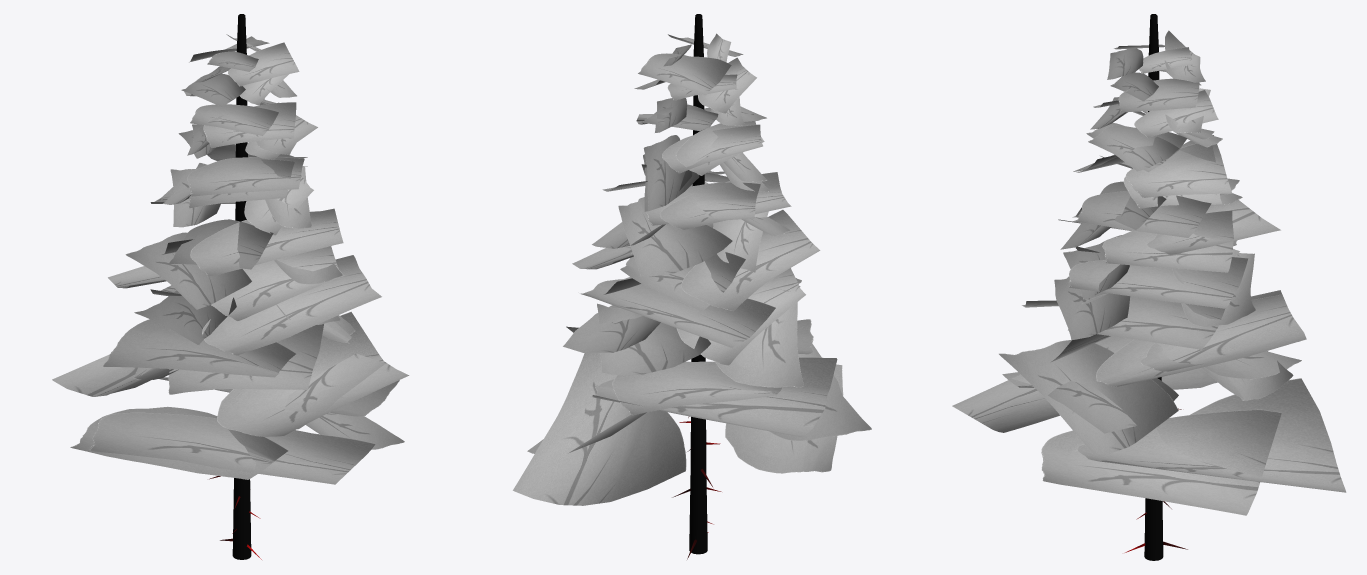
File: M_Pine_5_8.fbx
3 renders of one model, left to right at view 1: azimuth 30°, elevation 25°; view 2: azimuth 150°, elevation 25°; view 3: azimuth 270°, elevation 25°, orthographic.
Visible parts, largest first — view 1: Mobile_Pine_8; view 2: Mobile_Pine_8; view 3: Mobile_Pine_8.
Boxes of the visible parts, left/top/right/bottom form: Mobile_Pine_8: left=52, top=14, right=409, bottom=559; Mobile_Pine_8: left=512, top=14, right=871, bottom=559; Mobile_Pine_8: left=952, top=14, right=1346, bottom=560.
Bounding box in the file's own units: 2607 × 3469 × 2445.
